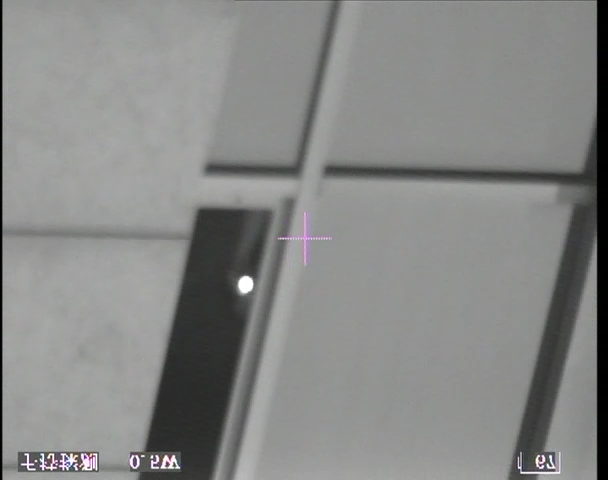my: (236, 274, 255, 294)
